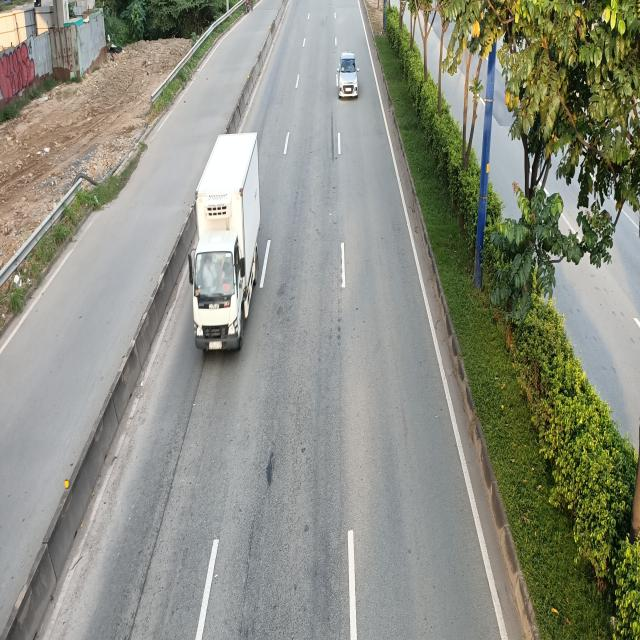car: (337, 52, 360, 98)
truck: (188, 132, 264, 354)
